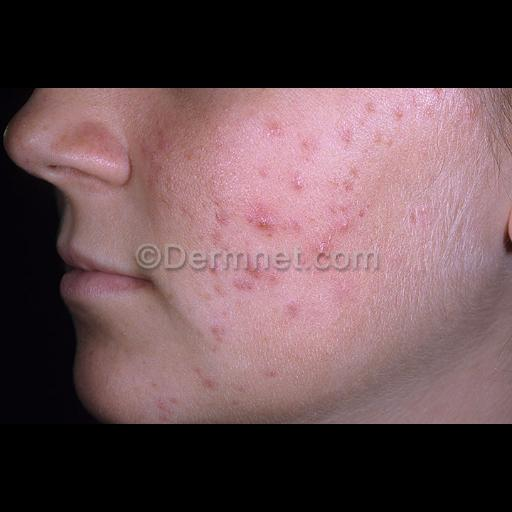Skin_Lesion: (230, 270, 260, 300), (252, 206, 280, 238), (312, 234, 340, 266), (261, 352, 287, 386), (282, 296, 304, 330), (208, 318, 232, 348), (329, 207, 355, 233), (416, 88, 446, 106), (302, 88, 354, 98), (207, 208, 229, 230), (290, 171, 310, 195), (201, 368, 219, 394), (126, 100, 146, 120)
